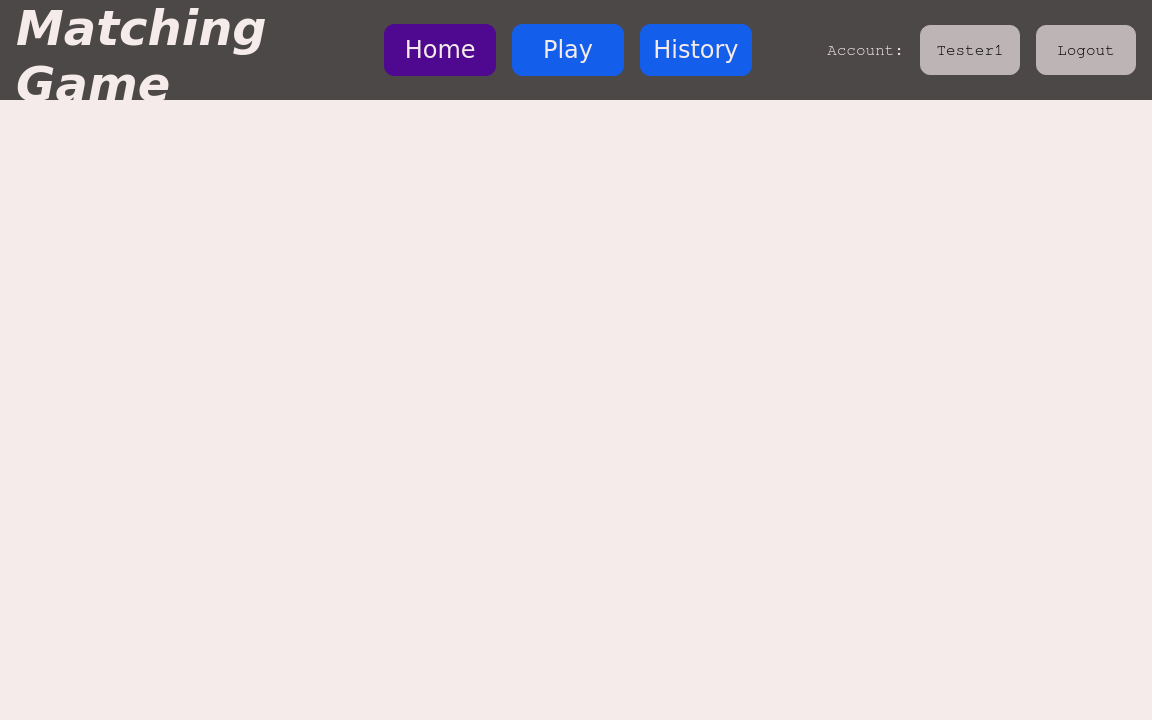
Header component › Tests when the user is logged in › Testing the Edit Account modal › Clicking the Edit Account button opens the Edit Account modal
What coordinates should you click on to do the following:
click the button "Tester1"
I would click on:
 (970, 50)
Its box is [920,25,1020,75].
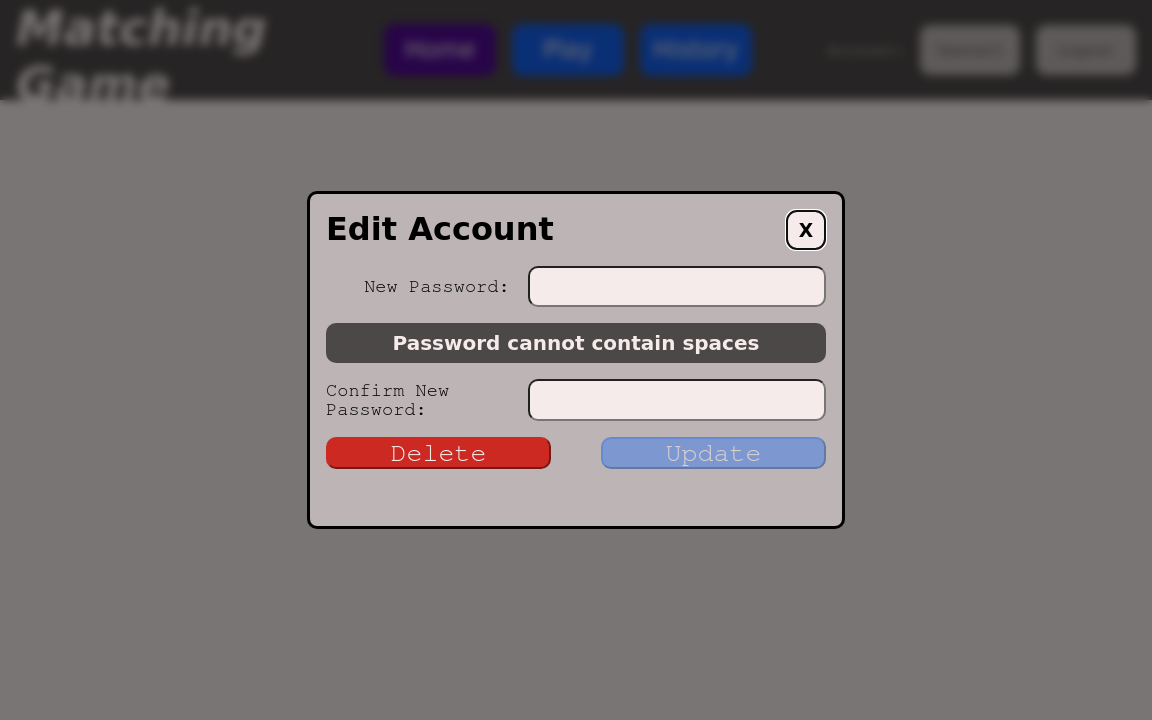
Expected: the dialog "Edit Account" is shown, [307,191,845,529]
